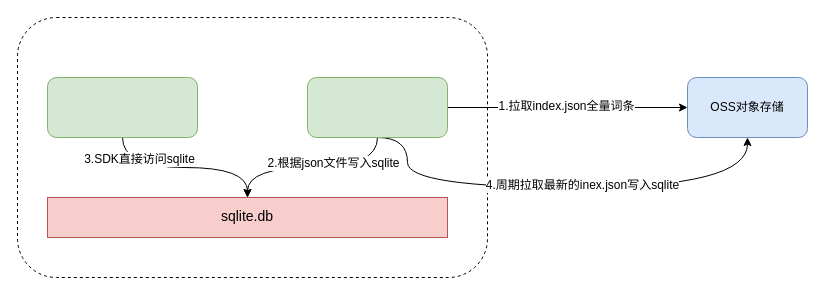
Image size: 825x295. Some labels were removed from this diagram. Each missing label, with the centre of its shape:
"bbl副容器" goes at point (377, 107).
"主服务容器" goes at point (122, 107).
